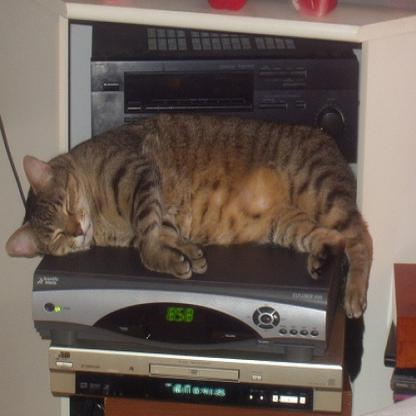cat: (4, 111, 374, 319)
